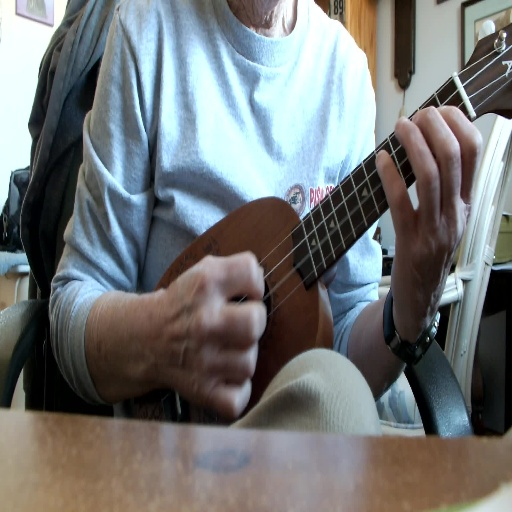hand: (153, 246, 267, 423), (385, 106, 470, 337)
